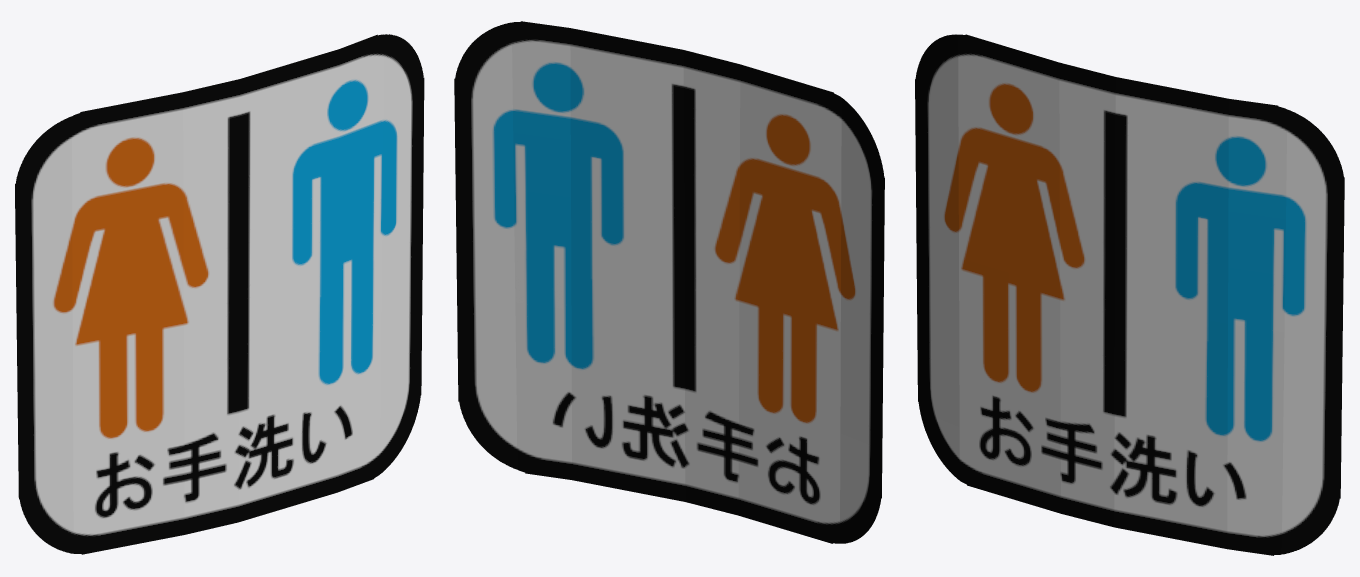
Rendered from toiletsign.fbx.
3 renders of one model, left to right at view 1: azimuth 30°, elevation 25°; view 2: azimuth 150°, elevation 25°; view 3: azimuth 330°, elevation 25°, orthographic.
Visible parts, largest first — view 1: japanese; view 2: japanese; view 3: japanese.
Boxes of the visible parts, x1,y1,x2,y2 form: japanese: [15, 34, 424, 554]; japanese: [454, 21, 884, 543]; japanese: [915, 34, 1344, 555].
Size of the model in its own units: 98.72 by 100 by 8.35.
